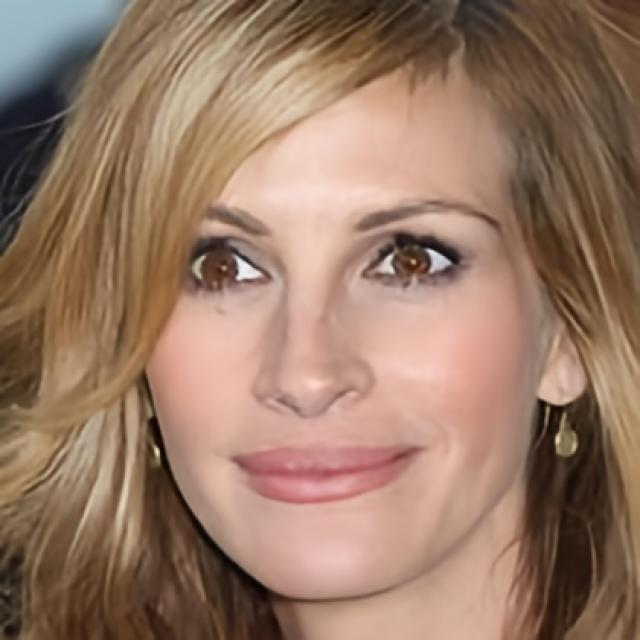happy: (140, 42, 549, 594)
